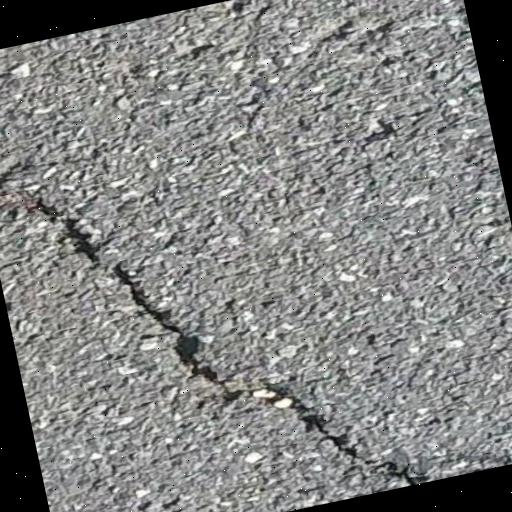spalling: (0, 169, 444, 487)
